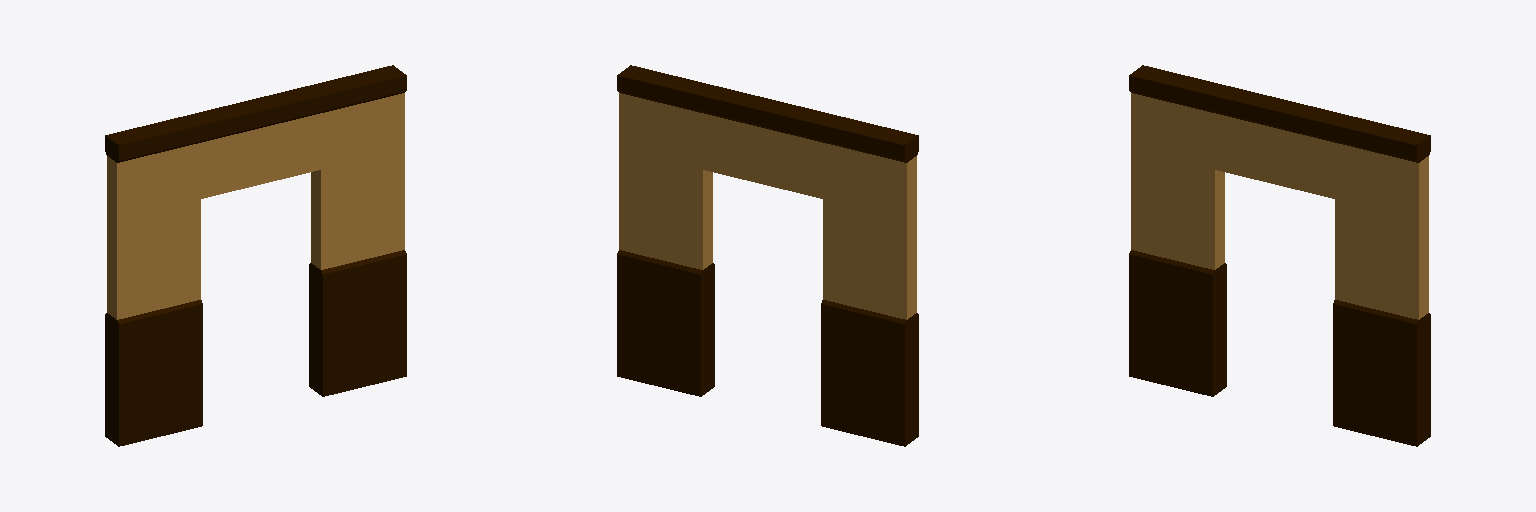
Rendered from Classic_WallDoorFrame_01_snaps001.obj.
The picture shows the model from 3 angles: view 1: azimuth 30°, elevation 25°; view 2: azimuth 150°, elevation 25°; view 3: azimuth 330°, elevation 25°; orthographic projection.
Visible parts, largest first — view 1: Classic_WallDoorFrame_01_snaps001; view 2: Classic_WallDoorFrame_01_snaps001; view 3: Classic_WallDoorFrame_01_snaps001.
Boxes of the visible parts, box(x1,y1,x2,y2) form: Classic_WallDoorFrame_01_snaps001: box(105, 65, 406, 446); Classic_WallDoorFrame_01_snaps001: box(617, 65, 918, 446); Classic_WallDoorFrame_01_snaps001: box(1129, 65, 1430, 446).
Size of the model in its own units: 3 by 3 by 0.25.